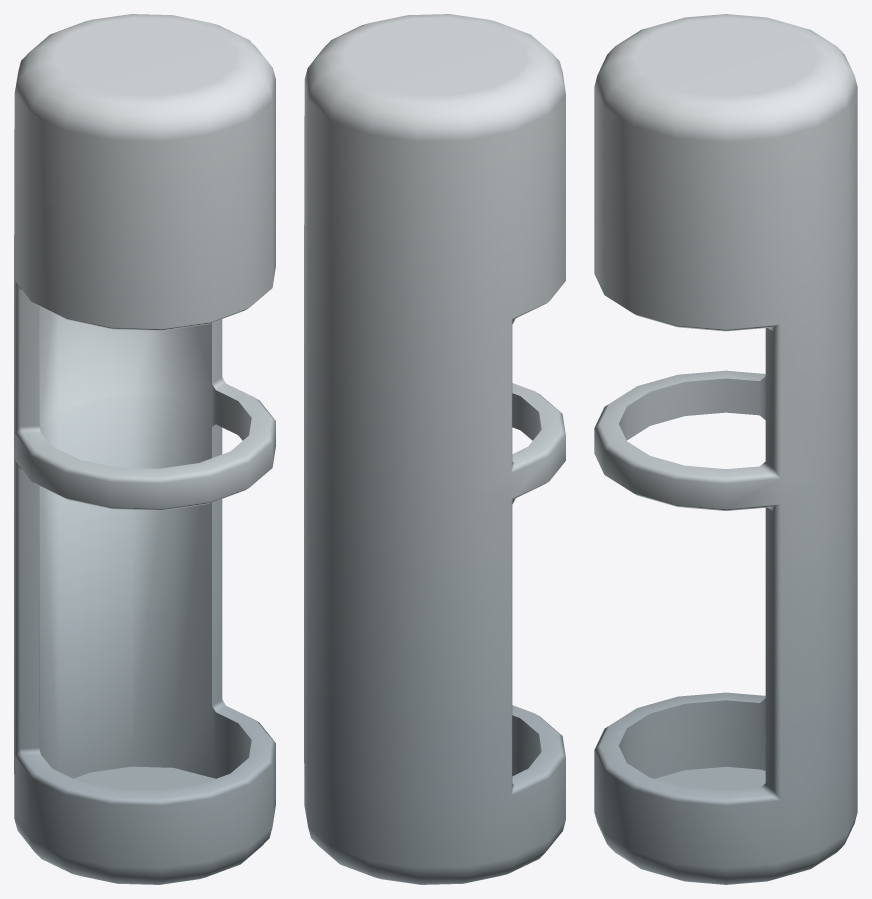
File: flaskshell_001.fbx
3 renders of one model, left to right at view 1: azimuth 30°, elevation 25°; view 2: azimuth 150°, elevation 25°; view 3: azimuth 270°, elevation 25°, orthographic.
Parts seen in each view (by area): view 1: flaskshell_001; view 2: flaskshell_001; view 3: flaskshell_001.
Boxes of the visible parts, box(x1,y1,x2,y2) form: flaskshell_001: box(14, 14, 275, 884); flaskshell_001: box(304, 14, 565, 884); flaskshell_001: box(594, 14, 857, 884).
Size of the model in its own units: 297 by 297 by 977.
